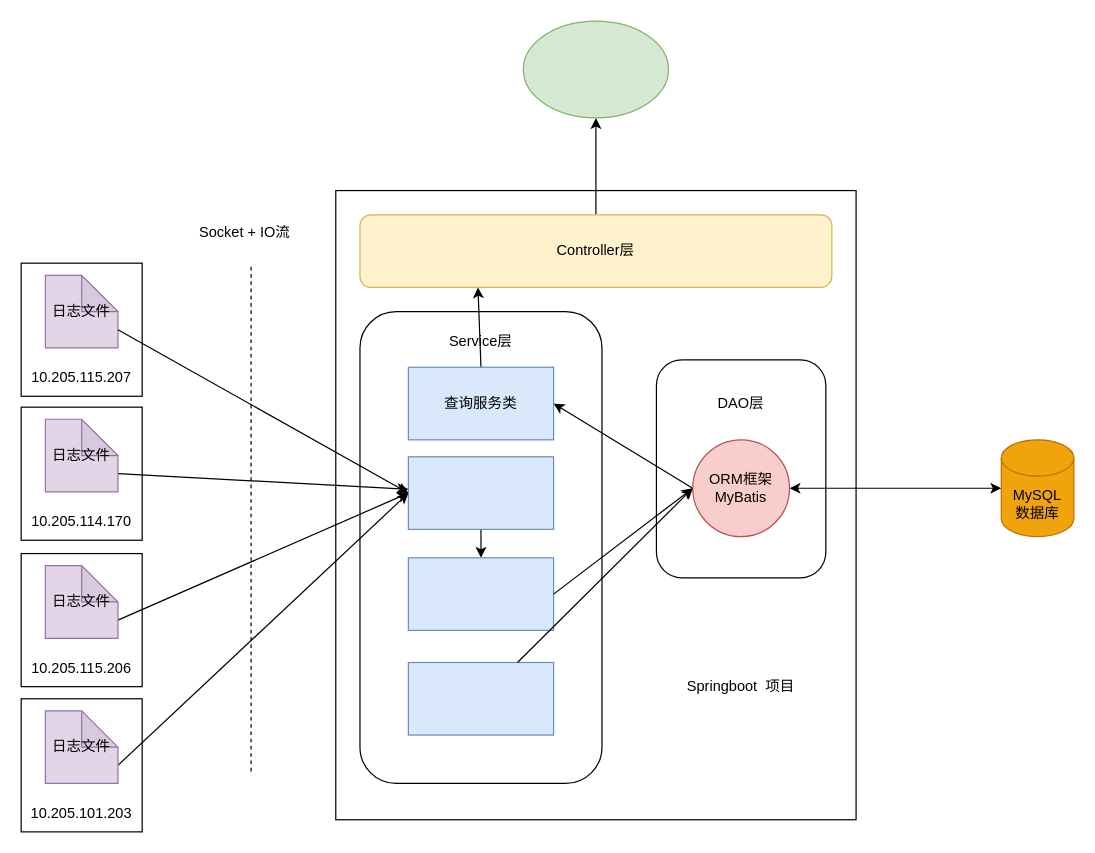
This 1095x853 diagram has some shape labels left out. The centre of each missing label's shape, as x and y in pixels:
"前端" belongs at point 595,69.
"数据清除定时任务Job" belongs at point 480,698.
"文件收集定时任务Job" belongs at point 480,492.
"文件解析类" belongs at point 480,593.
